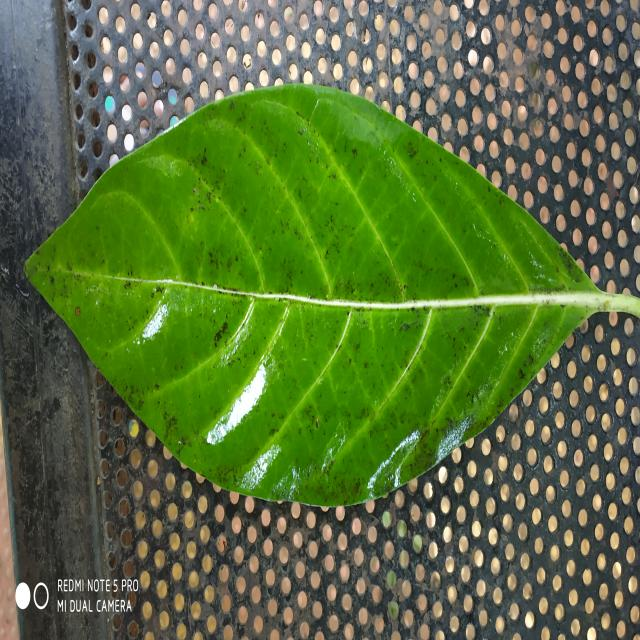anthracnosenooni: (26, 84, 596, 504)
